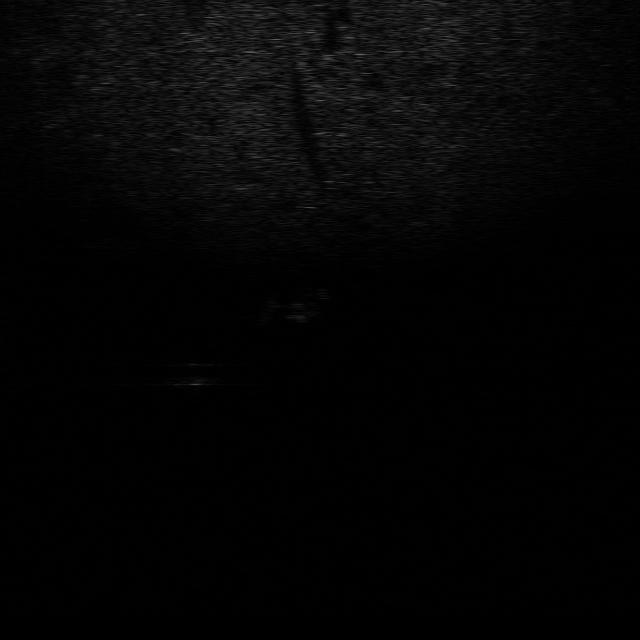ball: (166, 358, 222, 389)
human body: (261, 287, 331, 326)
